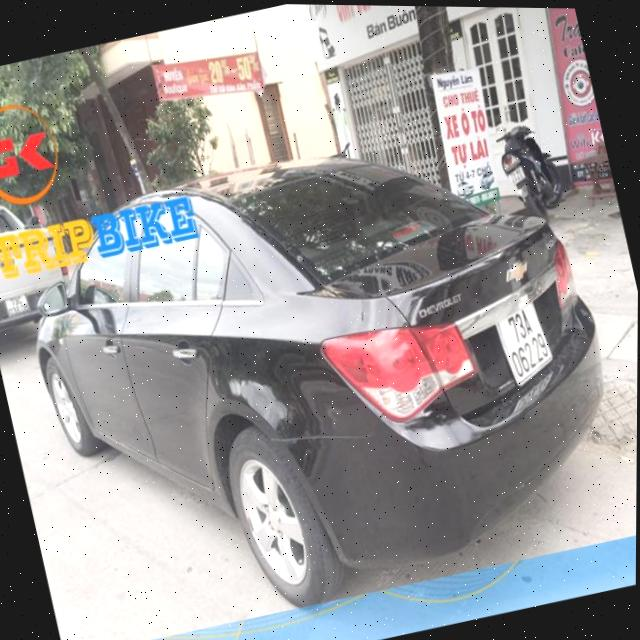car: (0, 88, 639, 640), (0, 191, 102, 366)
motorcycle: (487, 130, 571, 230)
plate: (483, 291, 563, 395), (0, 286, 36, 324)
